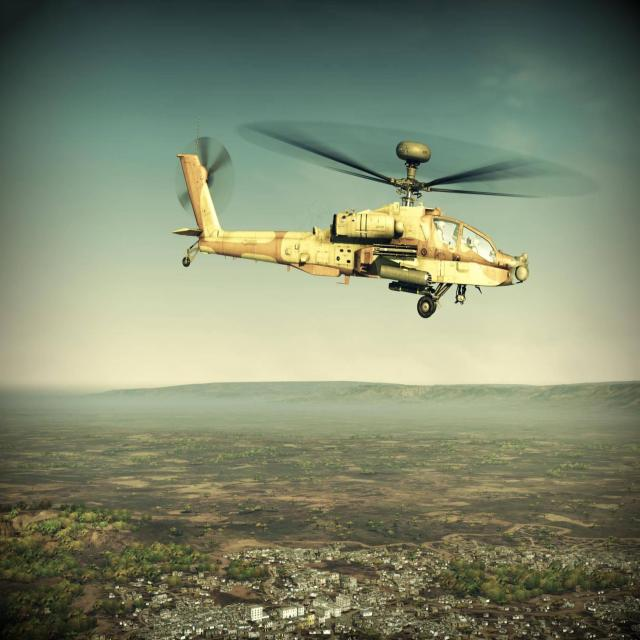MIL_HELO: (156, 109, 601, 321)
